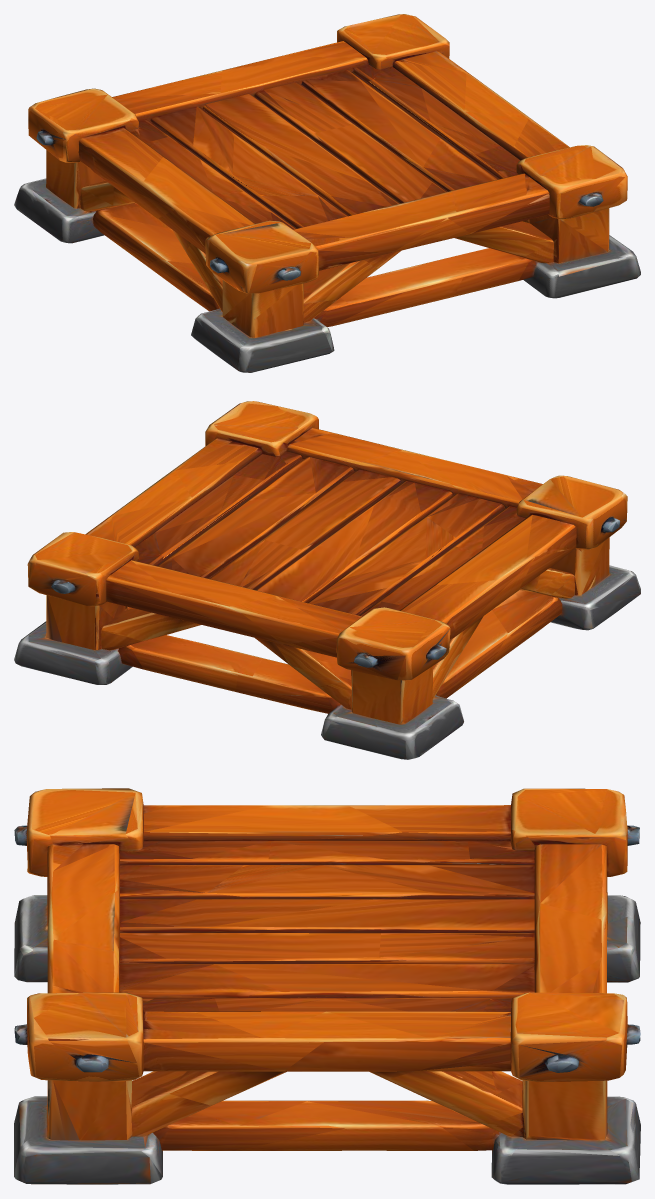
File: foundation.glb
The picture shows the model from 3 angles, top to bottom: view 1: azimuth 30°, elevation 25°; view 2: azimuth 150°, elevation 25°; view 3: azimuth 270°, elevation 25°; orthographic projection. The views are drawn at different scales.
Parts seen in each view (by area): view 1: foundation; view 2: foundation; view 3: foundation.
Boxes of the visible parts, x1,y1,x2,y2 form: foundation: (14, 14, 640, 372); foundation: (14, 401, 640, 759); foundation: (14, 788, 640, 1184).
Size of the model in its own units: 2 by 0.4994 by 2.
Materials: 1 (1 with a texture image).
